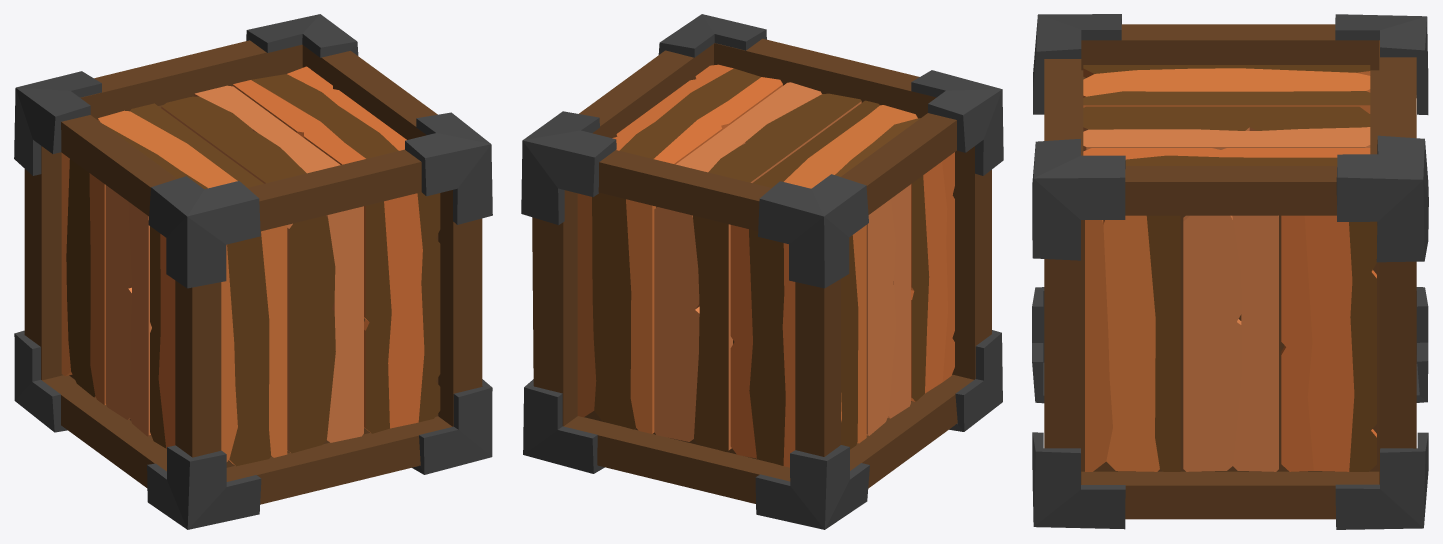
The model's file is KisteLow.fbx.
The picture shows the model from 3 angles, left to right: view 1: azimuth 30°, elevation 25°; view 2: azimuth 150°, elevation 25°; view 3: azimuth 270°, elevation 25°; orthographic projection. The views are drawn at different scales.
Visible parts, largest first — view 1: Cubo.009; view 2: Cubo.009; view 3: Cubo.009.
Part boxes in pixels (x1,y1,x2,y2): Cubo.009: (14,14,492,529); Cubo.009: (521,14,1003,529); Cubo.009: (1032,14,1428,529).
Size of the model in its own units: 213 by 212 by 213.
